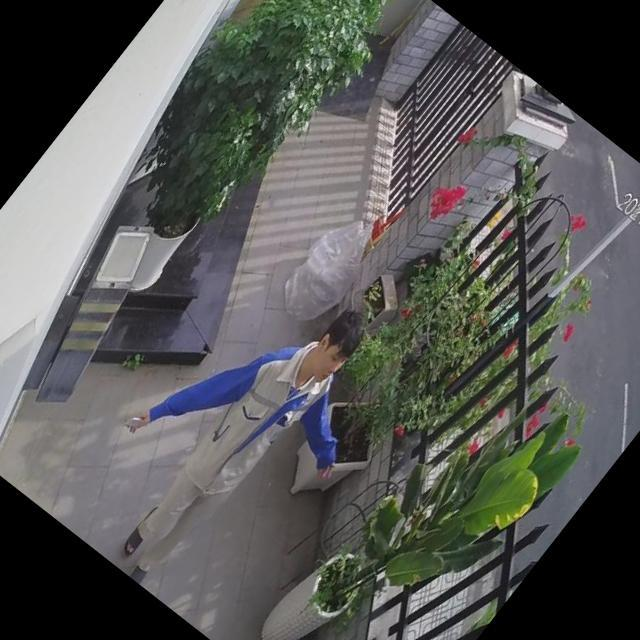person: (54, 238, 424, 636)
